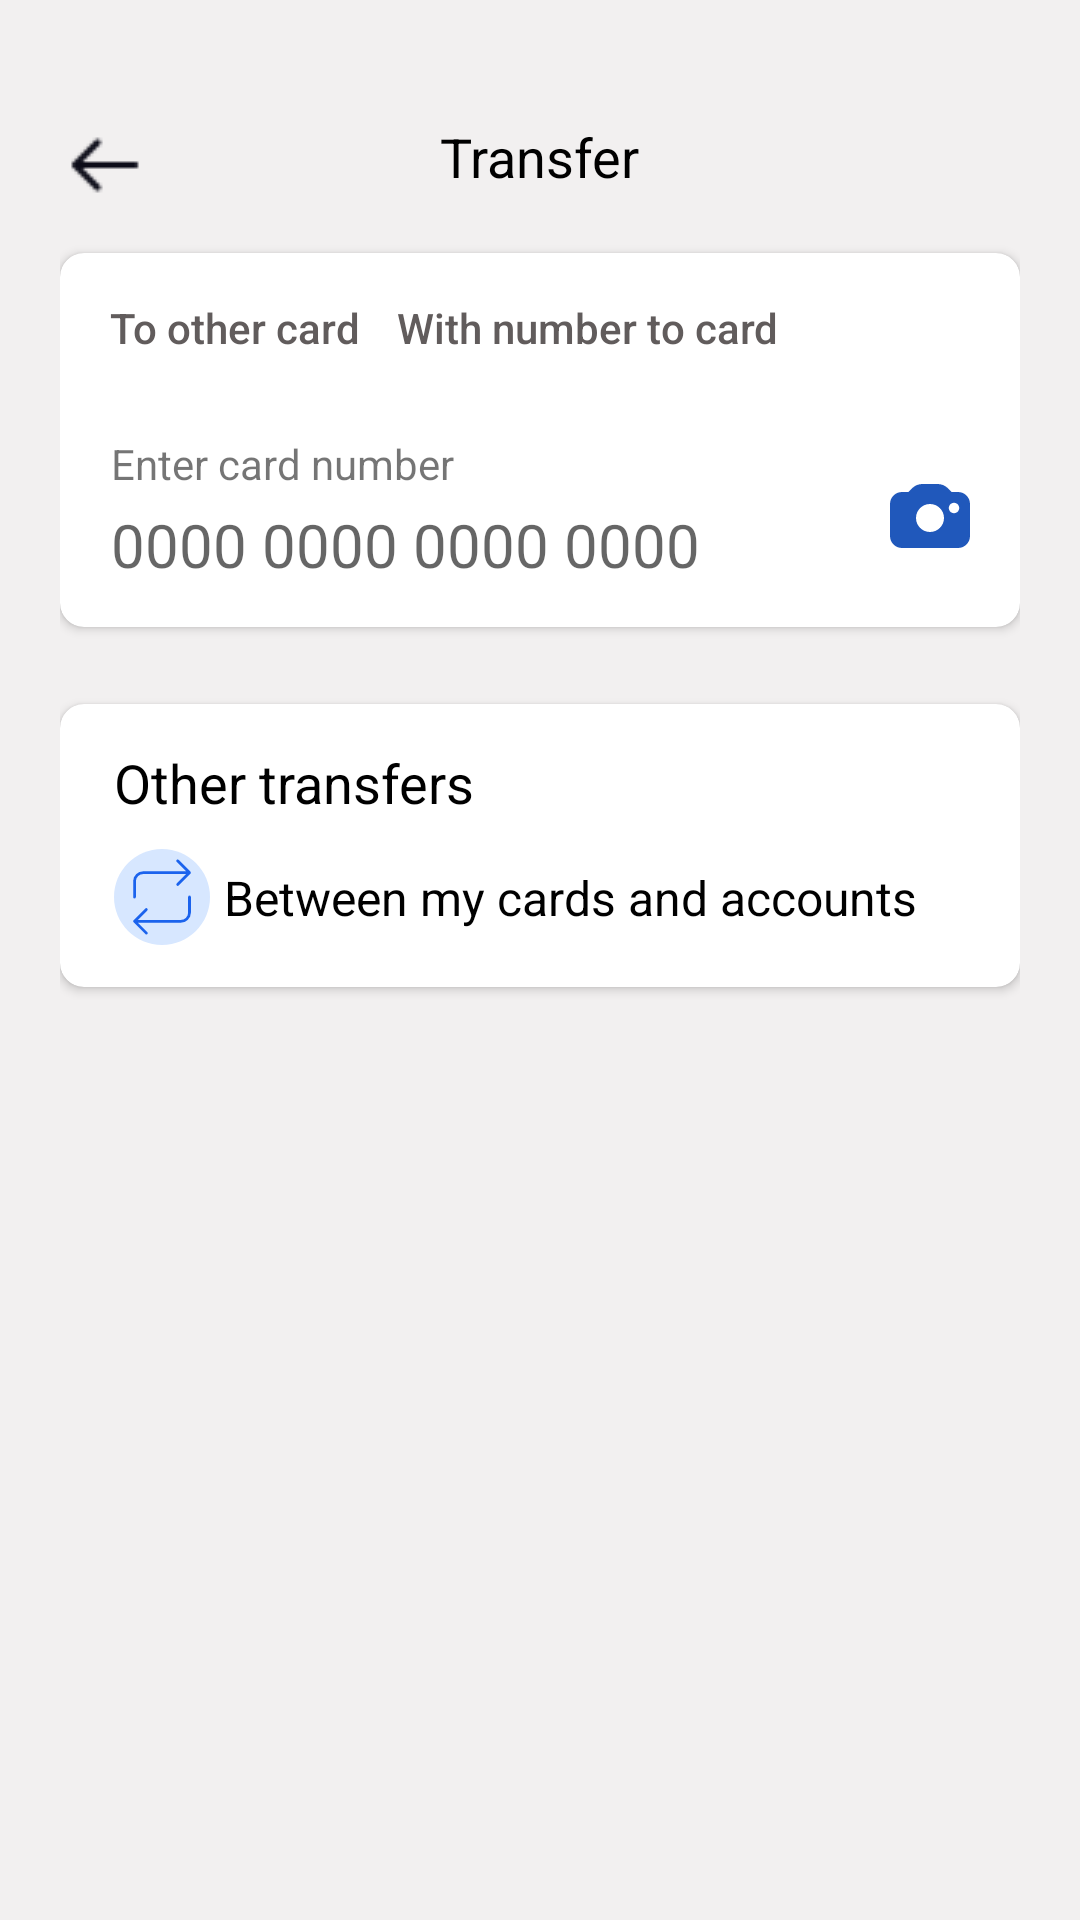

Named icons in this screenshot (1080×1920) and their bounding boxes, (x1, y1, x2, y2):
camera: (890, 484, 970, 548)
left: (71, 137, 139, 193)
